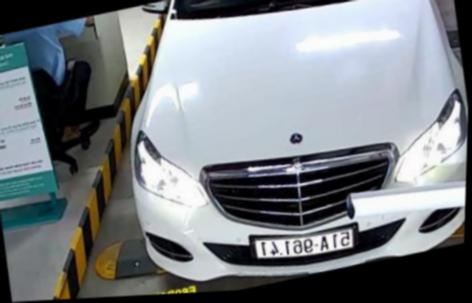License_Plate: (247, 220, 364, 272)
